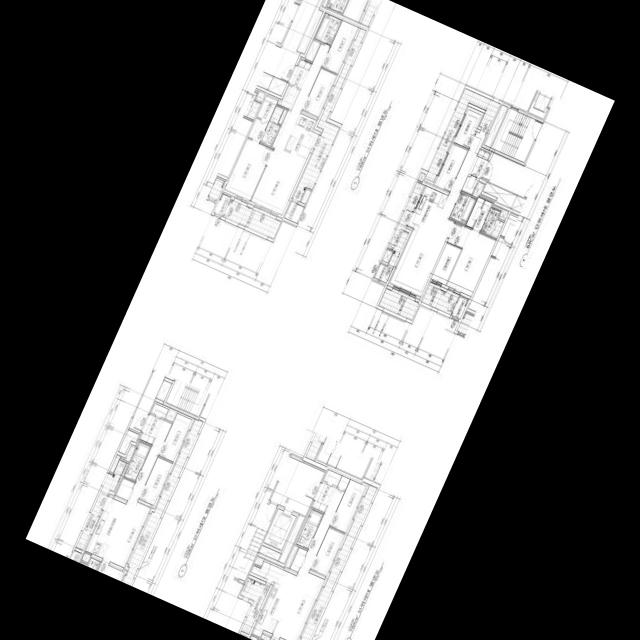background: (25, 0, 615, 640)
space_balconi: (123, 419, 203, 586), (293, 28, 366, 201), (301, 485, 377, 640), (426, 88, 501, 181), (76, 460, 127, 550), (388, 181, 424, 266), (224, 199, 281, 238), (241, 577, 270, 634), (379, 288, 419, 320), (422, 285, 459, 314)
space_bedroom: (446, 222, 496, 296), (225, 138, 273, 200), (322, 20, 358, 73), (330, 479, 366, 532), (303, 68, 337, 117), (311, 527, 345, 576), (435, 143, 468, 192), (159, 413, 192, 461), (140, 457, 173, 505), (454, 109, 481, 148)
space_dressroom: (248, 95, 278, 141), (466, 197, 492, 231)
space_elevator: (264, 508, 297, 550)
space_elevator_hall: (270, 456, 325, 516)
space_front: (312, 482, 336, 513), (140, 414, 164, 445), (289, 59, 312, 89), (468, 149, 490, 178)
space_kitchen: (252, 561, 297, 637), (86, 496, 126, 558), (408, 186, 449, 236), (284, 113, 318, 160)
space_living_room: (390, 132, 485, 296), (251, 43, 330, 215), (271, 488, 345, 640), (102, 420, 172, 568)
space_multipurpose_space: (431, 243, 461, 285)
space_other: (279, 514, 305, 563), (484, 104, 508, 147), (483, 182, 517, 208), (118, 430, 139, 454), (280, 85, 300, 109), (115, 478, 135, 500), (290, 547, 307, 572), (285, 201, 304, 223), (375, 263, 393, 283), (259, 545, 281, 561), (156, 380, 172, 401), (305, 40, 321, 61), (285, 545, 299, 568), (324, 469, 342, 486), (462, 176, 478, 194), (152, 403, 168, 418), (109, 455, 120, 473), (125, 446, 136, 462), (338, 476, 350, 490), (165, 409, 177, 422), (382, 249, 393, 263), (473, 183, 484, 197), (301, 189, 311, 204), (70, 550, 82, 562), (279, 109, 287, 124), (82, 553, 91, 563), (499, 210, 508, 220), (255, 558, 264, 566), (418, 172, 426, 181), (261, 633, 271, 640), (250, 636, 258, 640)
space_outdoor_room: (214, 193, 231, 216), (452, 296, 468, 319)
space_staircase: (492, 108, 542, 162)
space_toilet: (296, 509, 323, 549), (124, 441, 151, 481), (260, 105, 284, 146), (315, 13, 342, 45), (450, 192, 477, 224), (481, 207, 504, 238), (80, 557, 101, 571)
